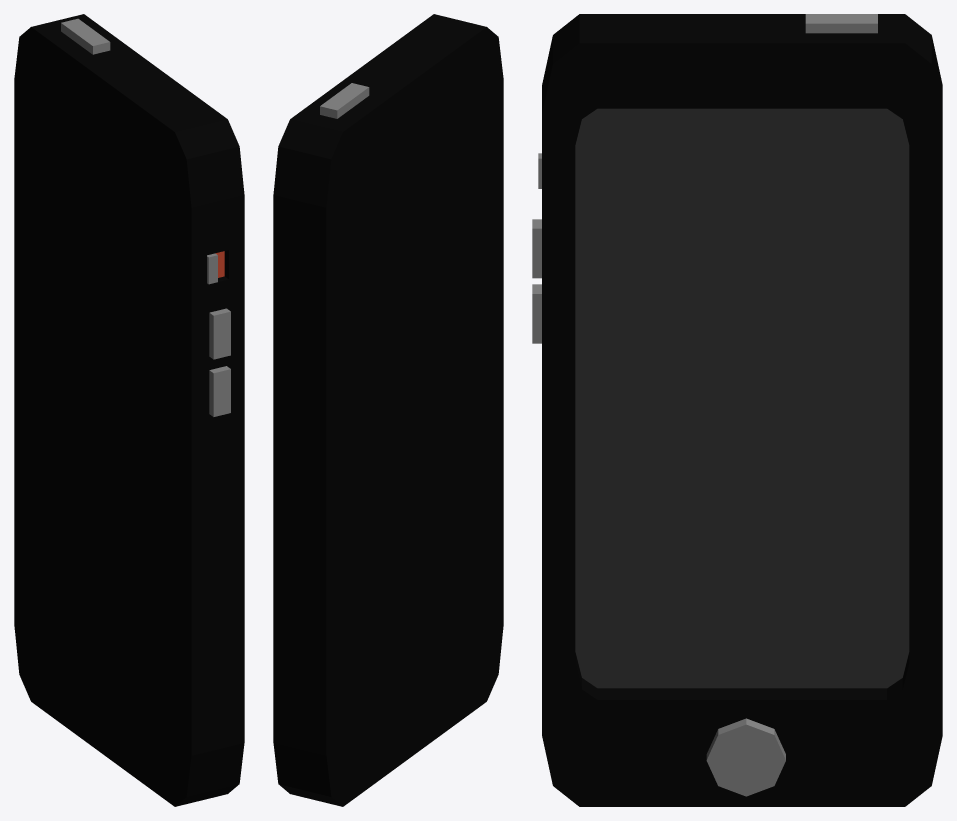
Rendered from Phone.fbx.
3 views of the same model, side by side, from view 1: azimuth 30°, elevation 25°; view 2: azimuth 150°, elevation 25°; view 3: azimuth 270°, elevation 25° (orthographic). The views are drawn at different scales.
Parts seen in each view (by area): view 1: Cylinder; view 2: Cylinder; view 3: Cylinder.
Part boxes in pixels (x1,y1,x2,y2): Cylinder: (14, 14, 244, 806); Cylinder: (273, 14, 503, 806); Cylinder: (532, 14, 942, 806).
Size of the model in its own units: 43 by 438 by 211.
Materials: 1 (1 with a texture image).
